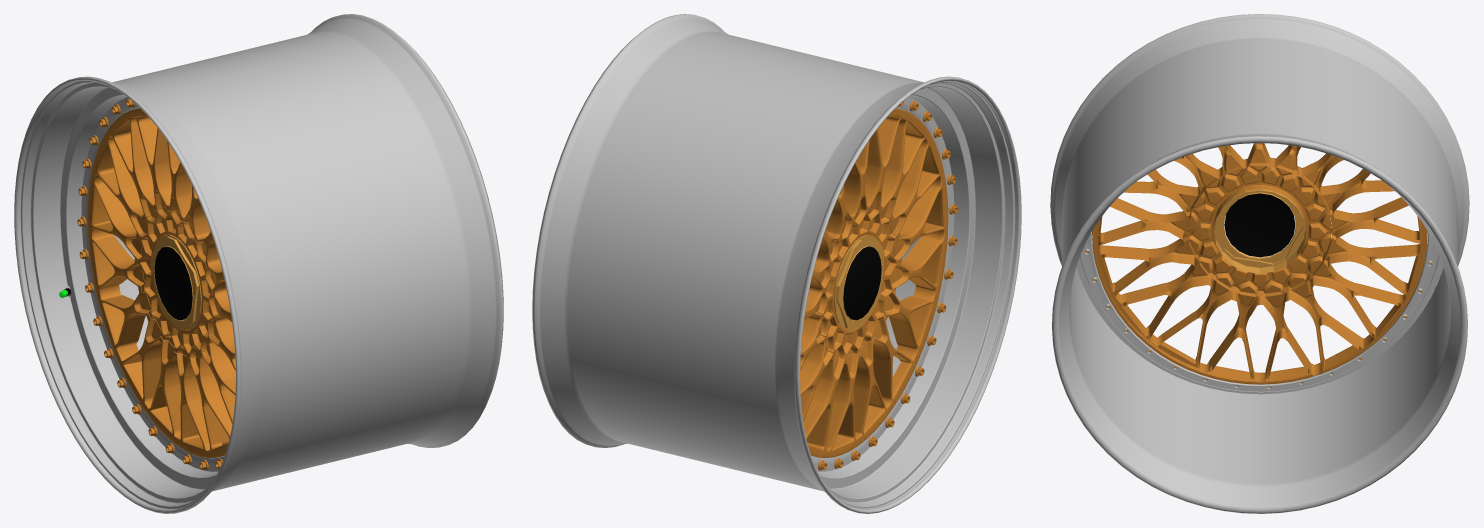
File: wheel.glb
The picture shows the model from 3 angles, left to right: view 1: azimuth 30°, elevation 25°; view 2: azimuth 150°, elevation 25°; view 3: azimuth 270°, elevation 25°; orthographic projection. The views are drawn at different scales.
Parts seen in each view (by area): view 1: BBS_LM_Wheel; view 2: BBS_LM_Wheel; view 3: BBS_LM_Wheel.
Part boxes in pixels (<box>): BBS_LM_Wheel: <box>14,14,503,513</box>; BBS_LM_Wheel: <box>532,14,1021,513</box>; BBS_LM_Wheel: <box>1050,14,1469,513</box>.
Size of the model in its own units: 0.3173 by 0.457 by 0.457.
